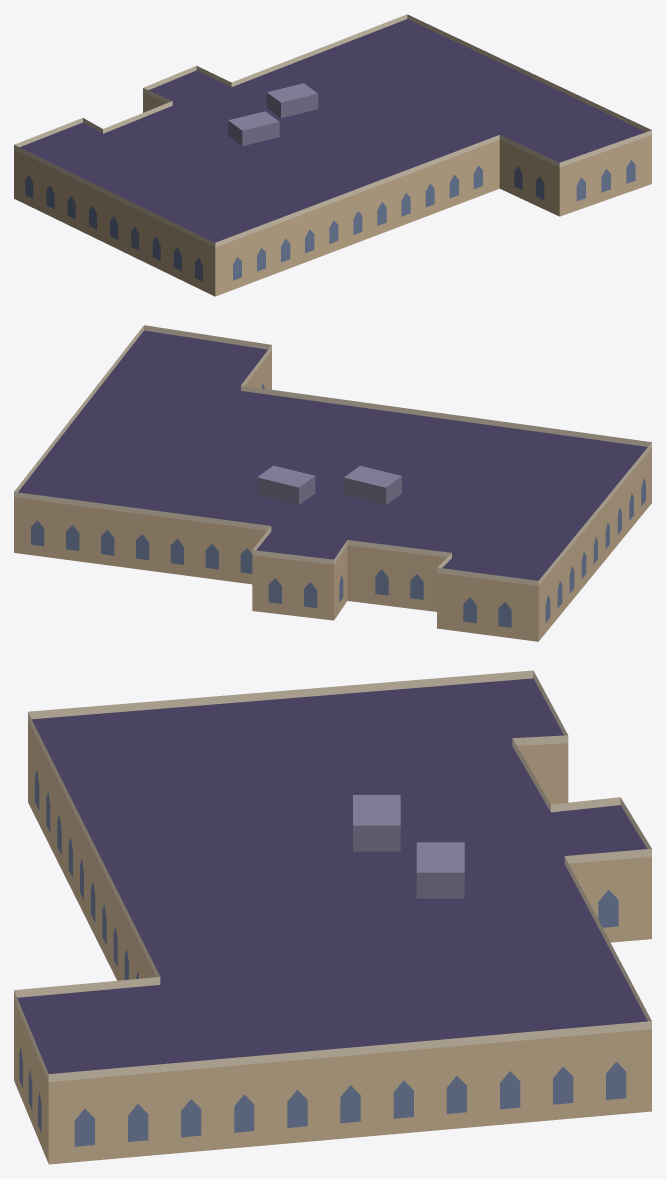
The model's file is b-040-day.glb.
3 views of the same model, one above another, from view 1: azimuth 30°, elevation 25°; view 2: azimuth 150°, elevation 25°; view 3: azimuth 270°, elevation 25° (orthographic). The views are drawn at different scales.
Parts seen in each view (by area): view 1: campus/b-040-day-0; view 2: campus/b-040-day-0; view 3: campus/b-040-day-0.
Part boxes in pixels (left/top/right/bottom): campus/b-040-day-0: left=14, top=14, right=651, bottom=296; campus/b-040-day-0: left=14, top=325, right=651, bottom=641; campus/b-040-day-0: left=14, top=670, right=651, bottom=1164.
Size of the model in its own units: 59.84 by 7.5 by 39.96.
